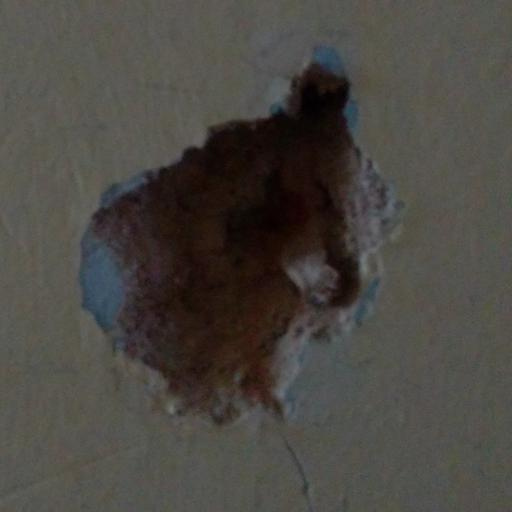spalling: (65, 28, 418, 438)
